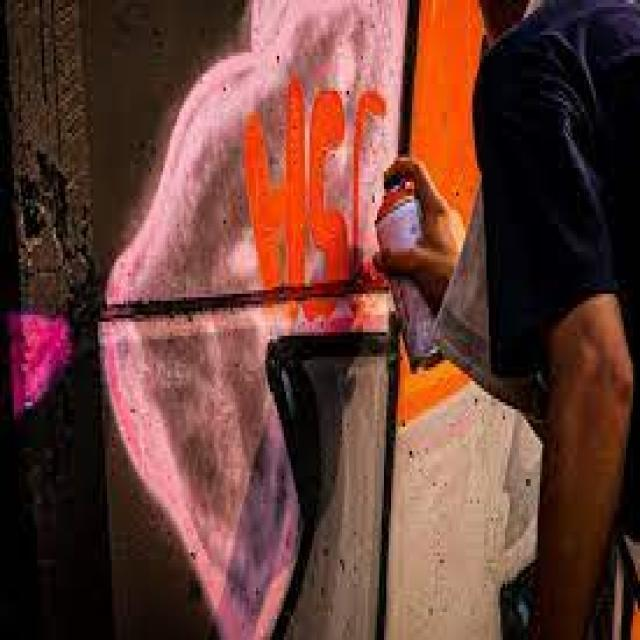-: (11, 0, 479, 637), (236, 74, 418, 330)
